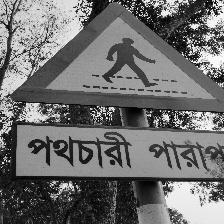Pedestrian-crossing: (6, 1, 224, 187)
